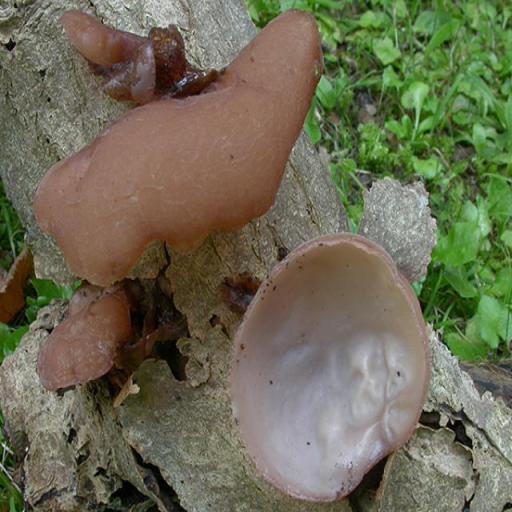Wood Ear Mushroom: (33, 10, 322, 286), (230, 231, 431, 503), (60, 8, 220, 103), (39, 290, 129, 390), (0, 248, 33, 323)
